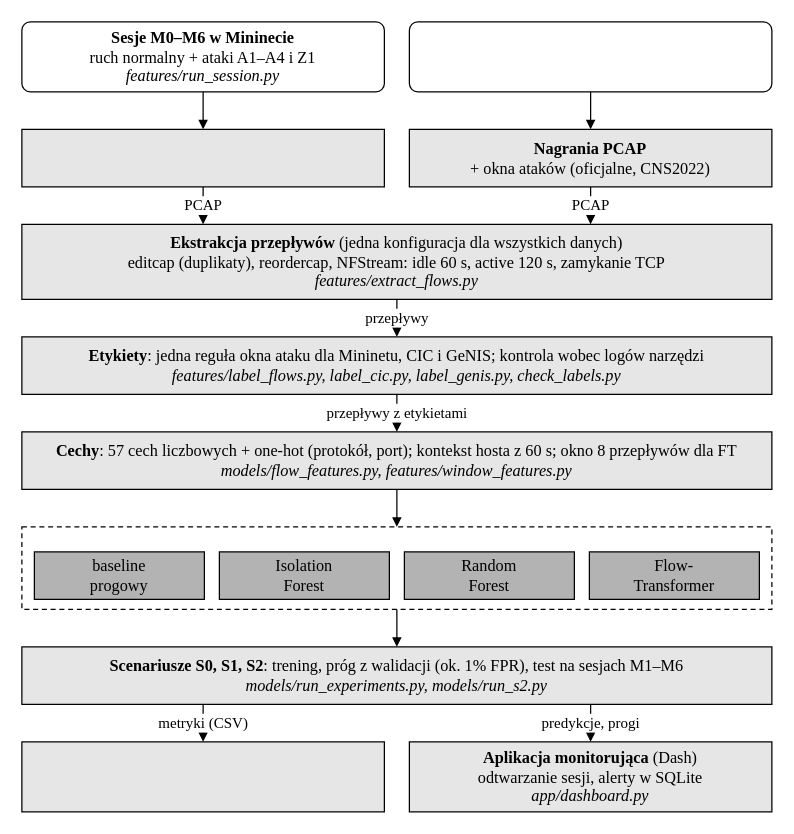
Image size: 794x834. Some labels were removed from this diagram. The box of each missing label's shape, as (x1, y1, x2, y2) in pixels:
modele: (21, 526, 772, 609)
Nagranie na routerze r0 PCAP + okna ataków (ground truth): (21, 128, 384, 187)
Statystyka średnia ± 95% CI po sesjach stats/summarize.py: (21, 741, 384, 812)
Zbiory publiczne CIC-IDS2017, GeNIS: (408, 21, 772, 92)
